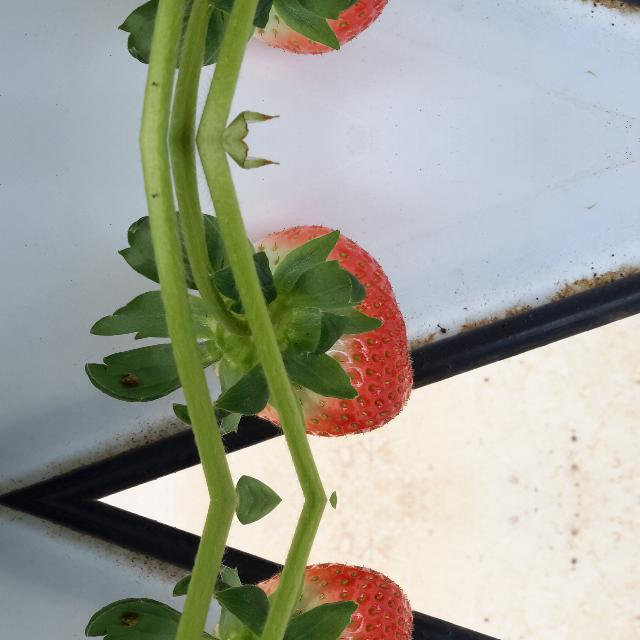Health_100: (214, 226, 412, 437), (214, 563, 412, 640), (214, 0, 412, 54)
